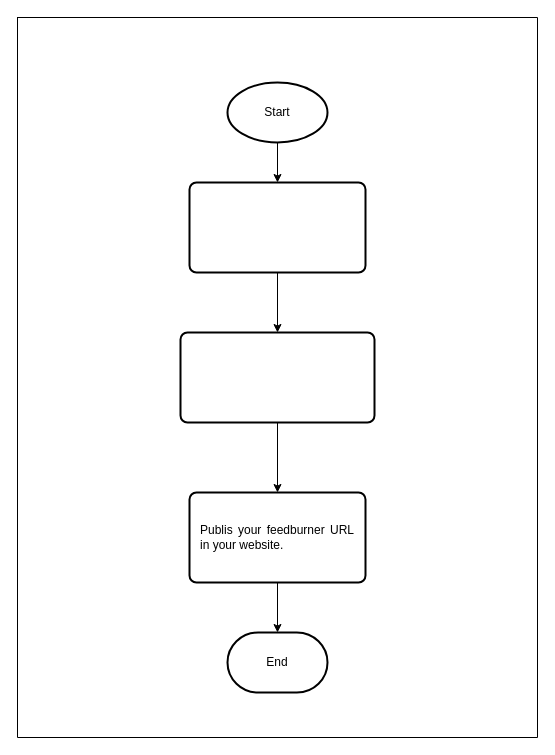
This 555x755 diagram has some shape labels left out. The shapes that lost their labels are listed below. From the top down, each one's box as (x1, y1, x2, y2) in pixels, then its label:
(188, 181, 366, 273): Create ChannelFeed.XML Put this file in a directory of your website hosting.
(179, 331, 375, 423): Create/Associate a feedburner URL to this XML file.
